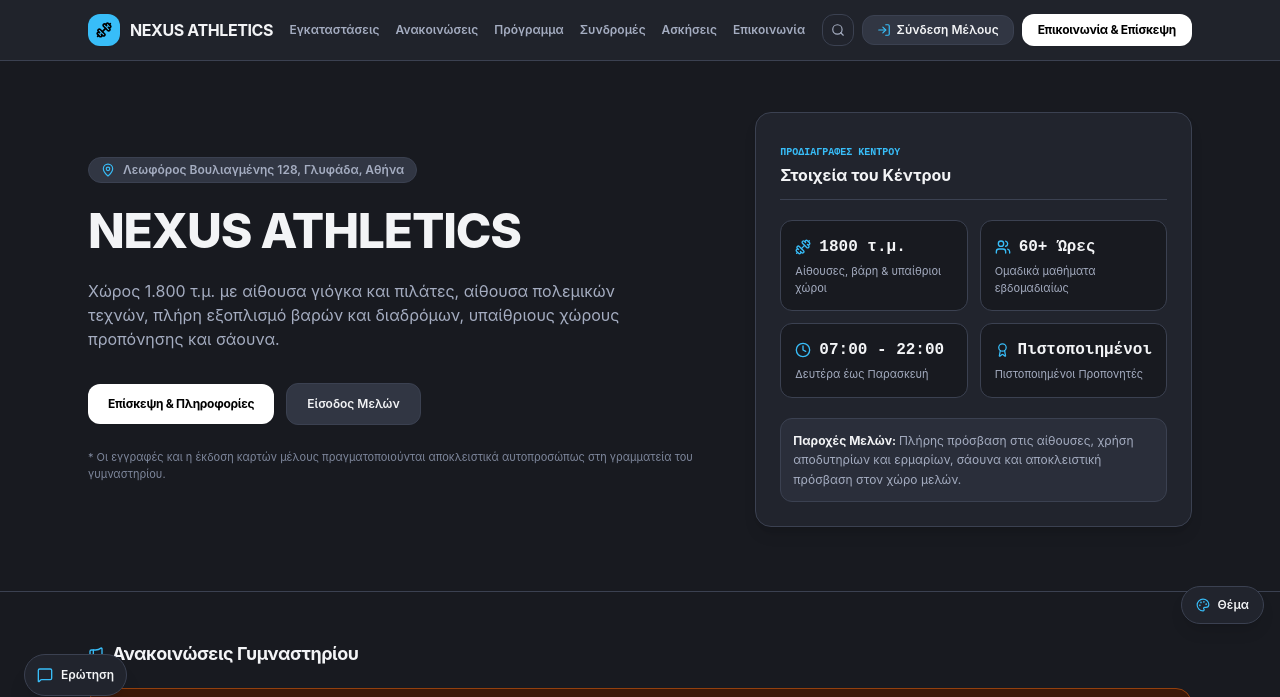
Scenario: interactive demo app › logs a demo member in, stays on the landing and opens the portal from the menu
Click the button "Σύνδεση Μέλους" at point(938, 30), box [862,15,1014,45]
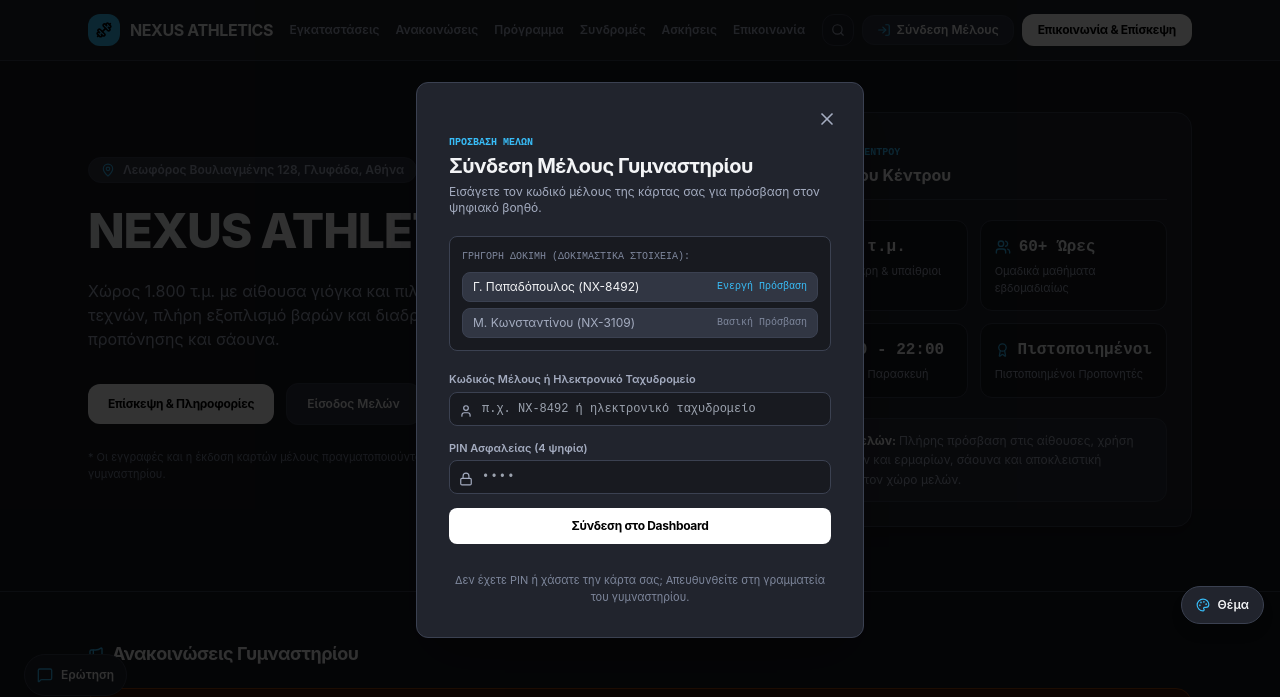
Click the text "Γ. Παπαδόπουλος (NX-8492)" at point(556, 287), box [473,279,639,295]
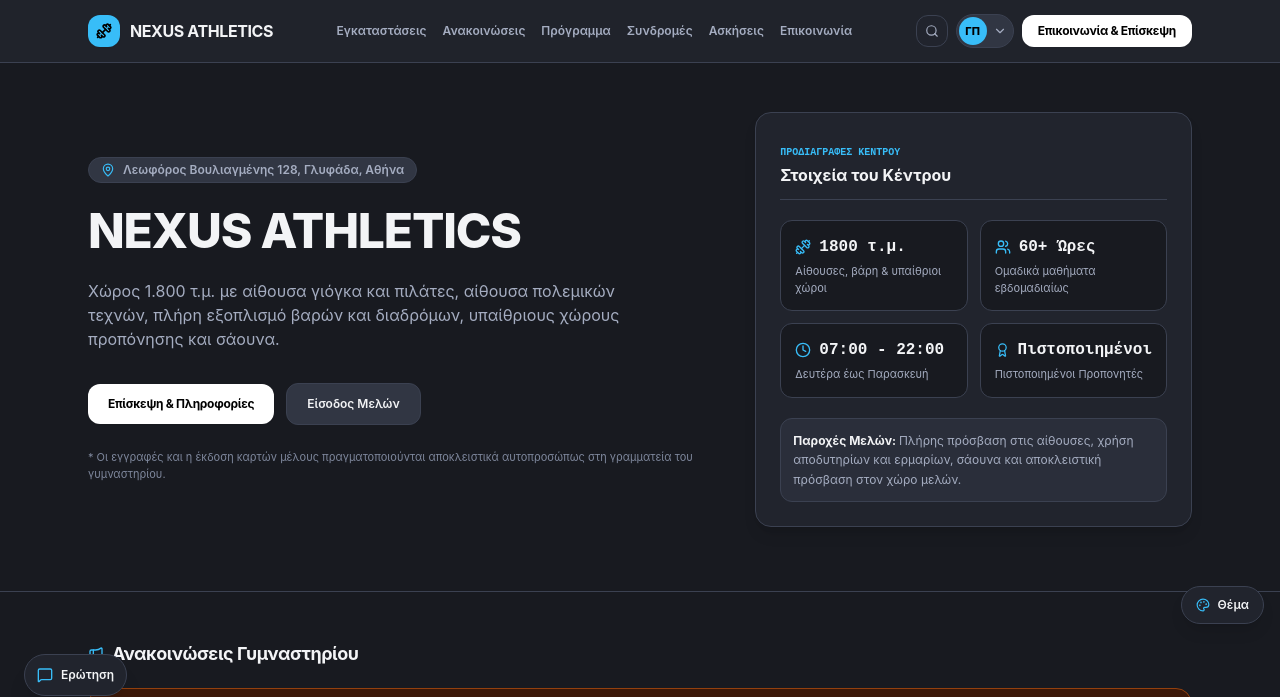
expect the button with aria-label "Μενού μέλους" is shown: met
Click the button with aria-label "Μενού μέλους" at point(985, 31), box [956,14,1014,48]
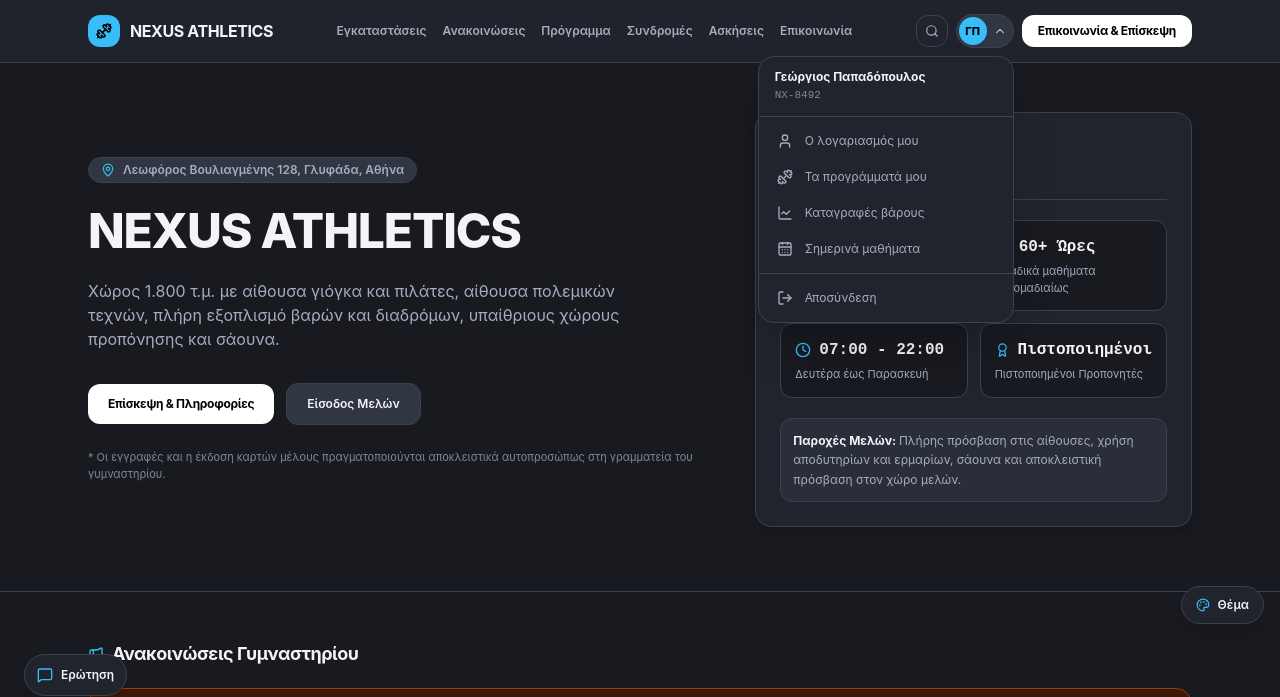
Click the menu item "Ο λογαριασμός μου" at point(886, 140), box [765,122,1007,158]
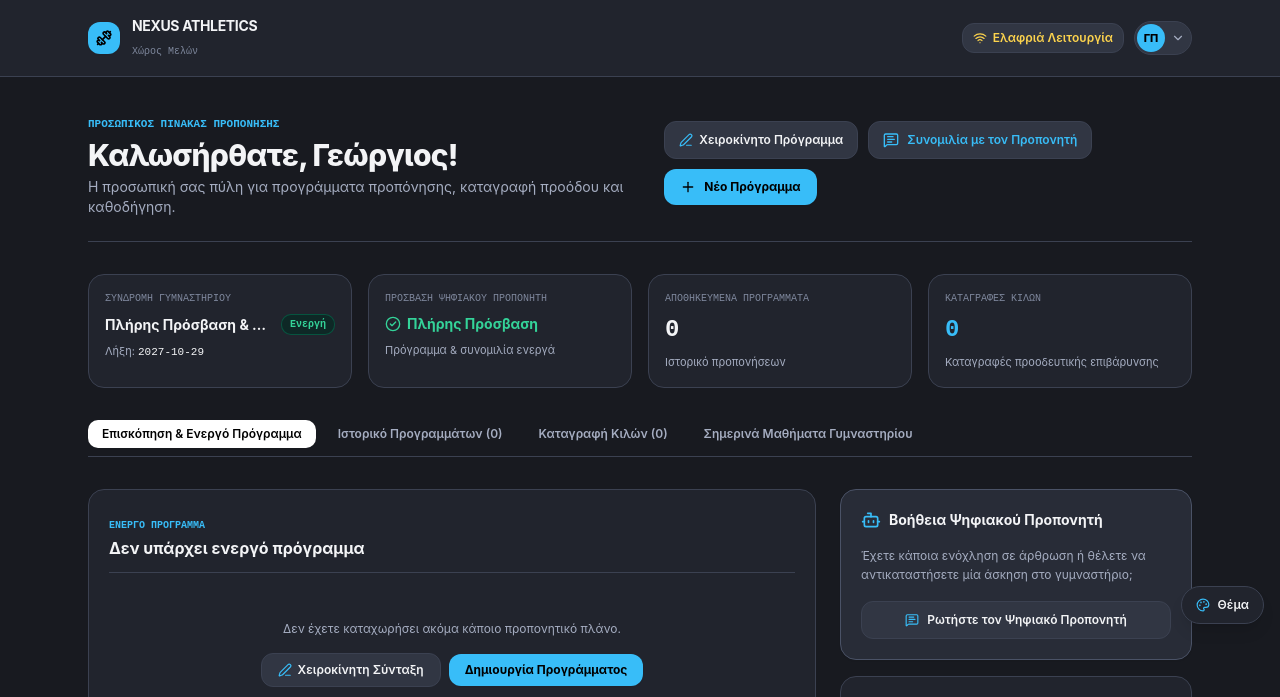
expect the heading "Καλωσήρθατε, Γεώργιος!" is shown: met, box [88,137,458,173]
expect the text "Συνομιλία με τον Προπονητή" is shown: met, box [907,132,1077,148]
expect the text "Αποθηκευμένα Προγράμματα" is shown: met, box [665,293,809,304]
